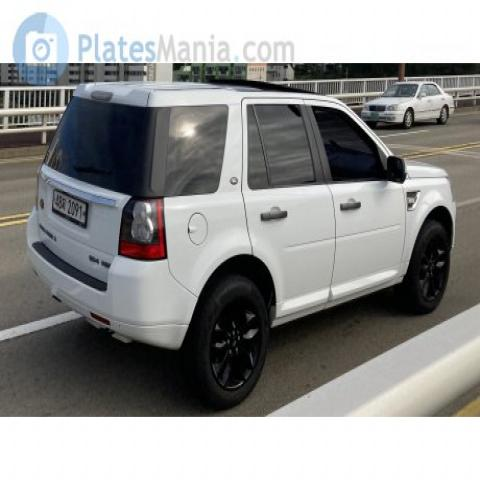LP: (39, 182, 97, 235)
